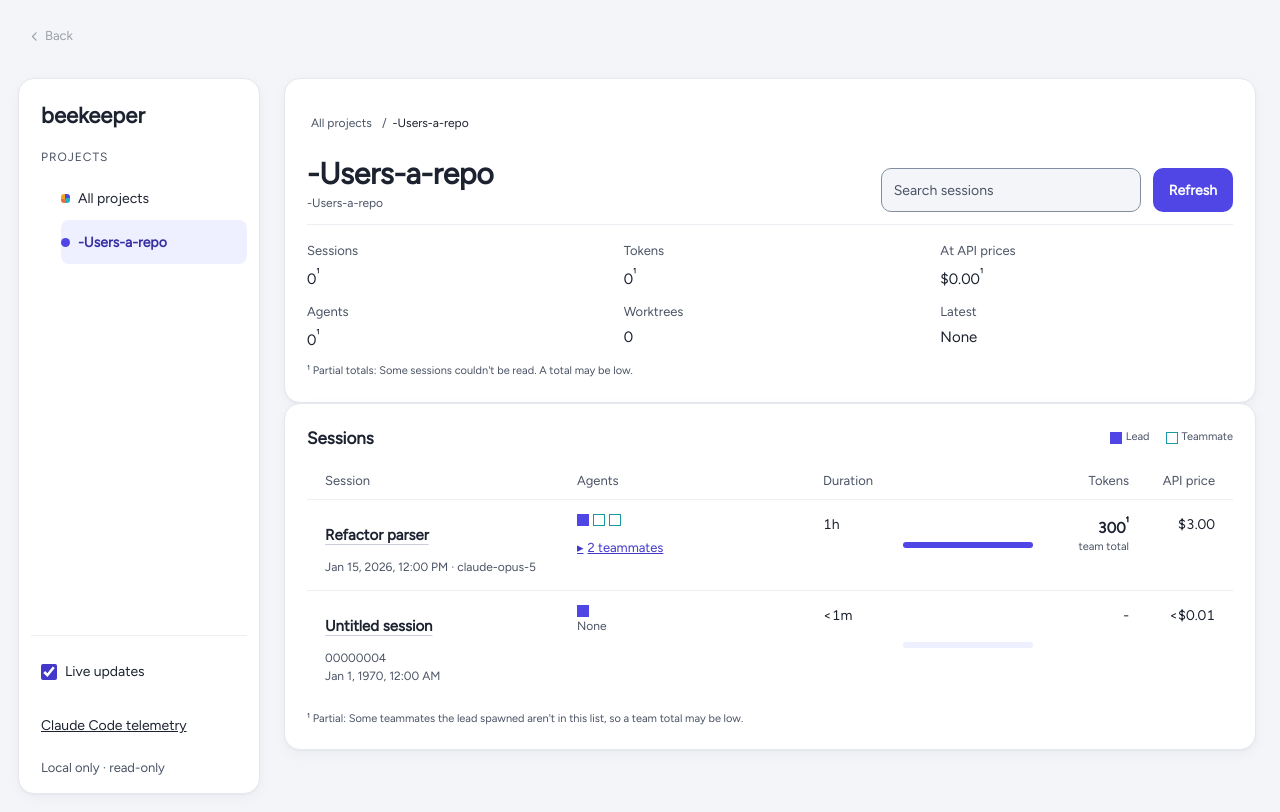
Test: SessionsView search › says so when nothing matches
The width and height of the screenshot is (1280, 812).
expect the list named "-Users-a-repo" is shown: met, box 307,498 -> 1233,698
In the search field labelled "Search sessions": (1011, 190) 881,168 -> 1141,212, type "zzz"
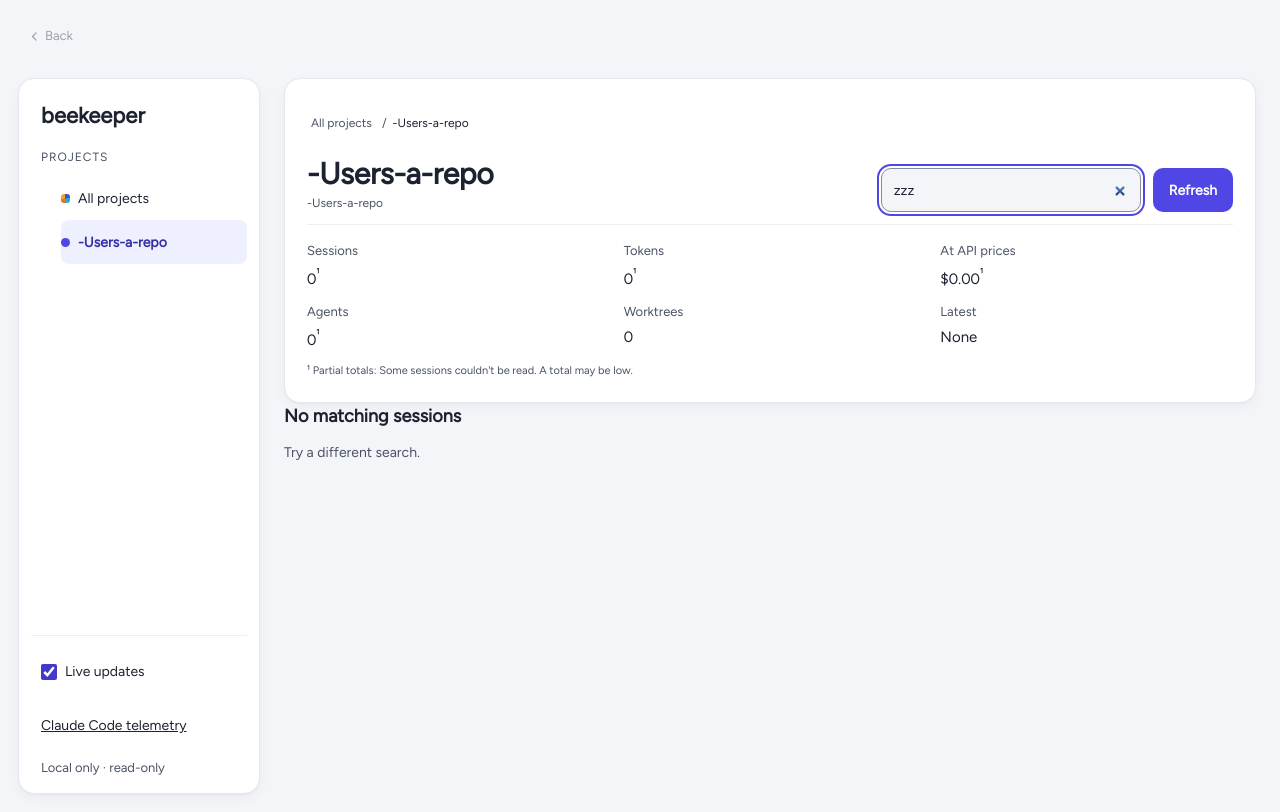
expect the heading "No matching sessions" is shown: met, box 284,402 -> 461,430
